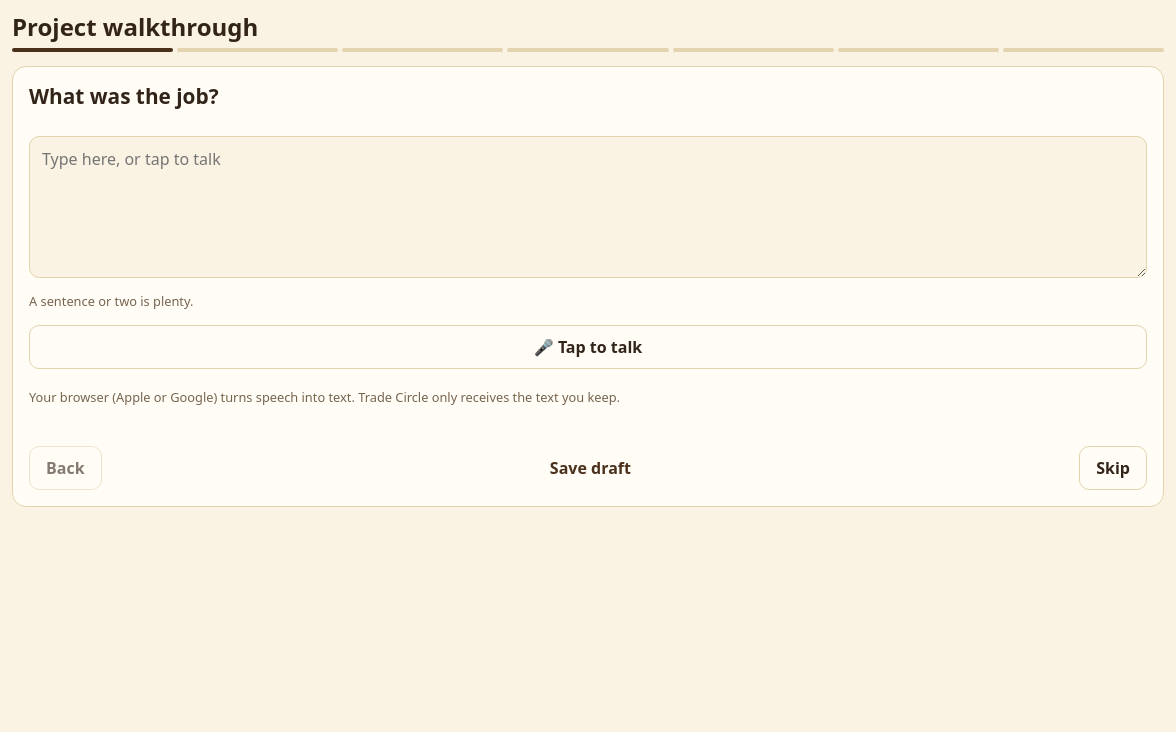
Share a project › listens only after a tap, shows it's recording, and stops on Stop
Check: the heading "What was the job?" is shown, box [29,82,219,110]
Step 1. Click the button "🎤 Tap to talk" → (588, 347), box [29,325,1147,369]
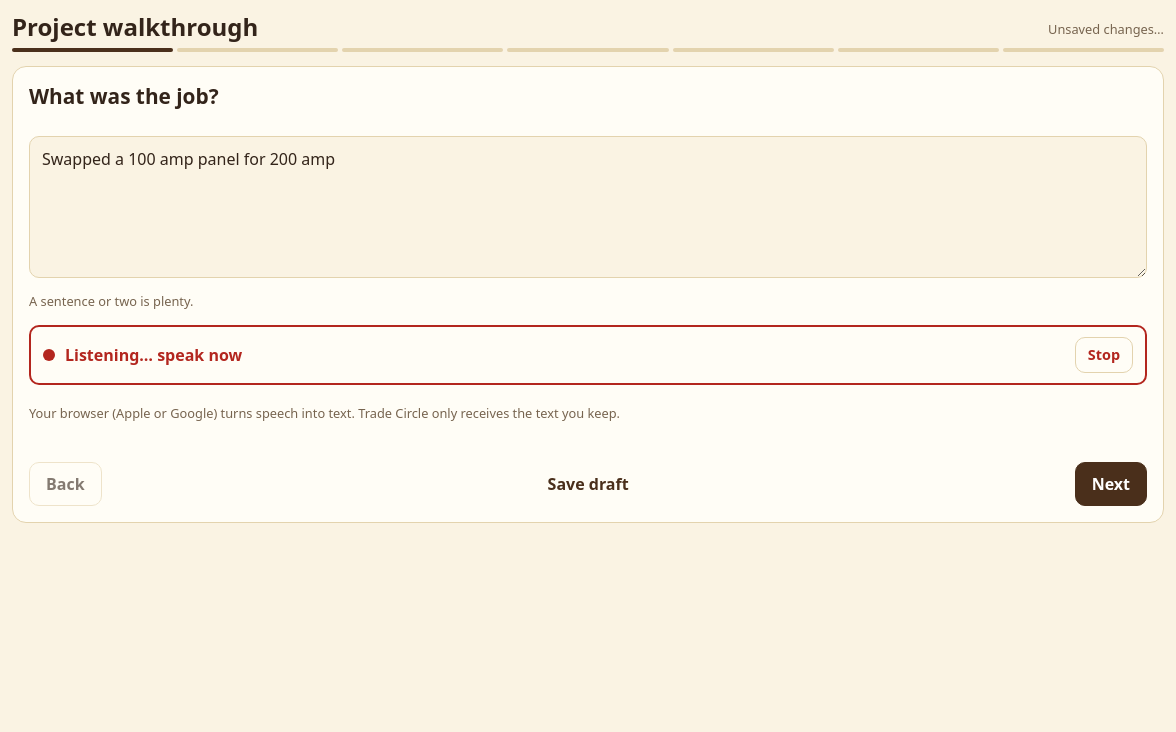
Check: the text "Listening… speak now" is shown, box [65,343,242,367]
Check: the text box named "What was the job?" holds "Swapped a 100 amp panel for 200 amp", box [29,136,1147,278]
Step 2. Click the button "Stop" → (1104, 355), box [1075,337,1133,373]
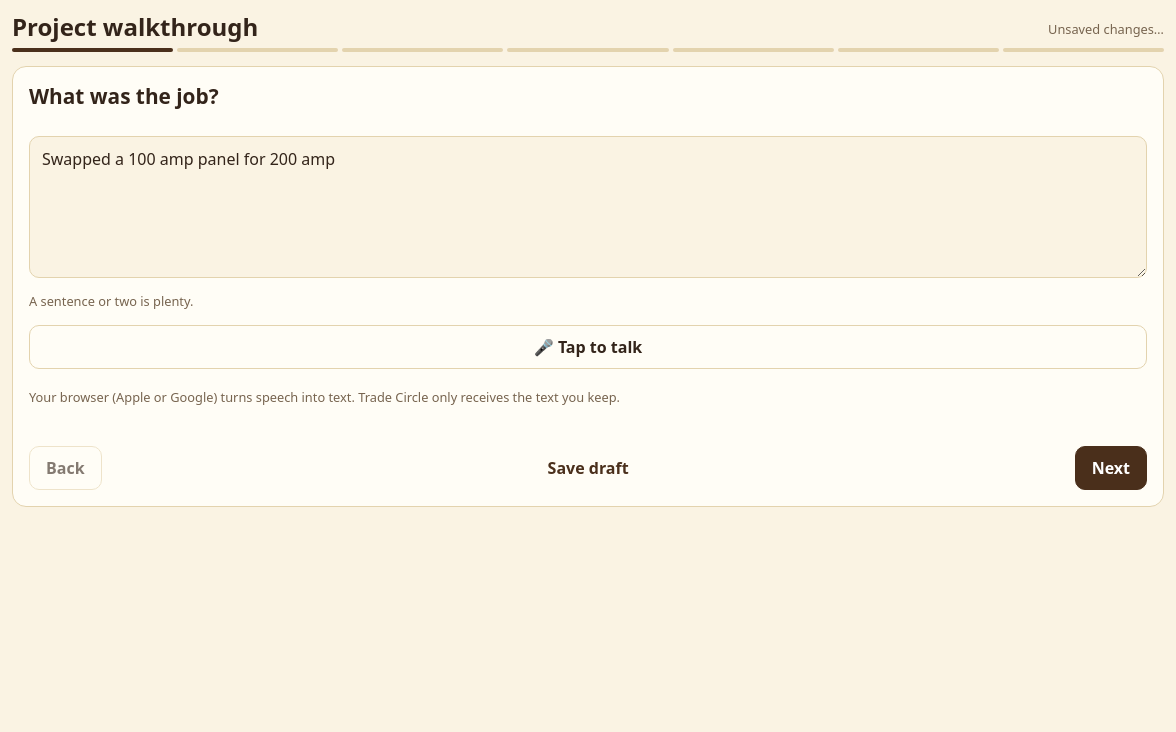
Check: the text "Listening… speak now" is gone
